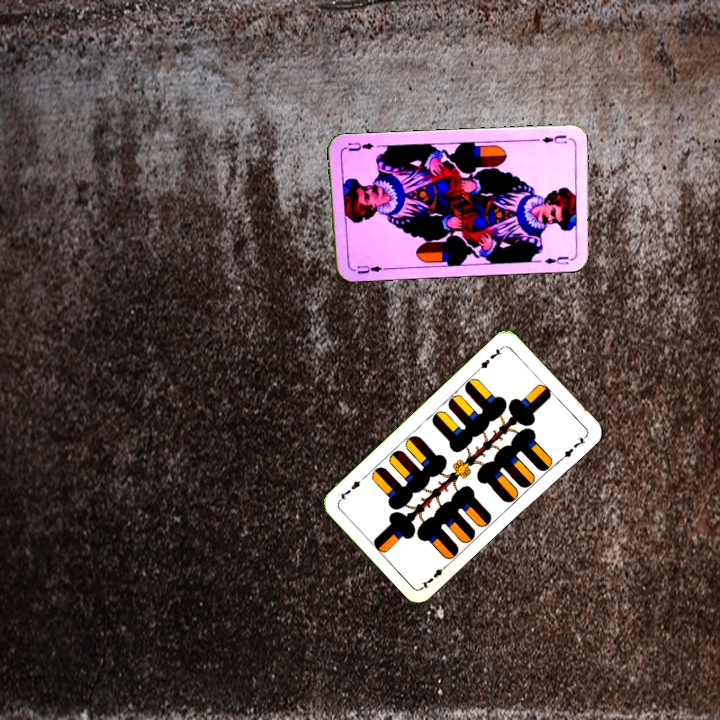E7: (417, 560, 451, 591), (473, 343, 506, 374)
EU: (347, 261, 388, 276), (538, 131, 571, 146)
